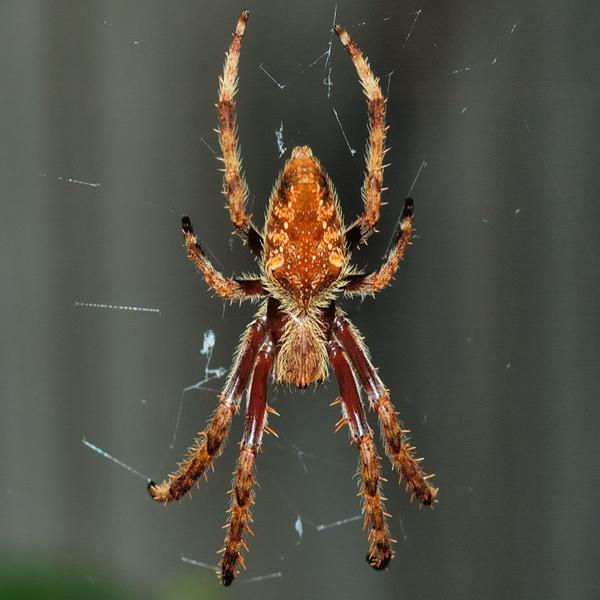Garden Orb Weaver Spider: (171, 14, 436, 579)
